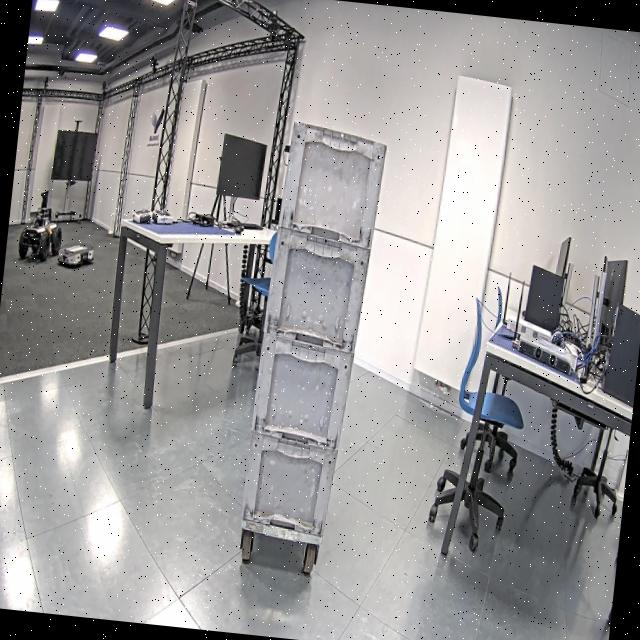Box4G: (237, 114, 391, 552)
